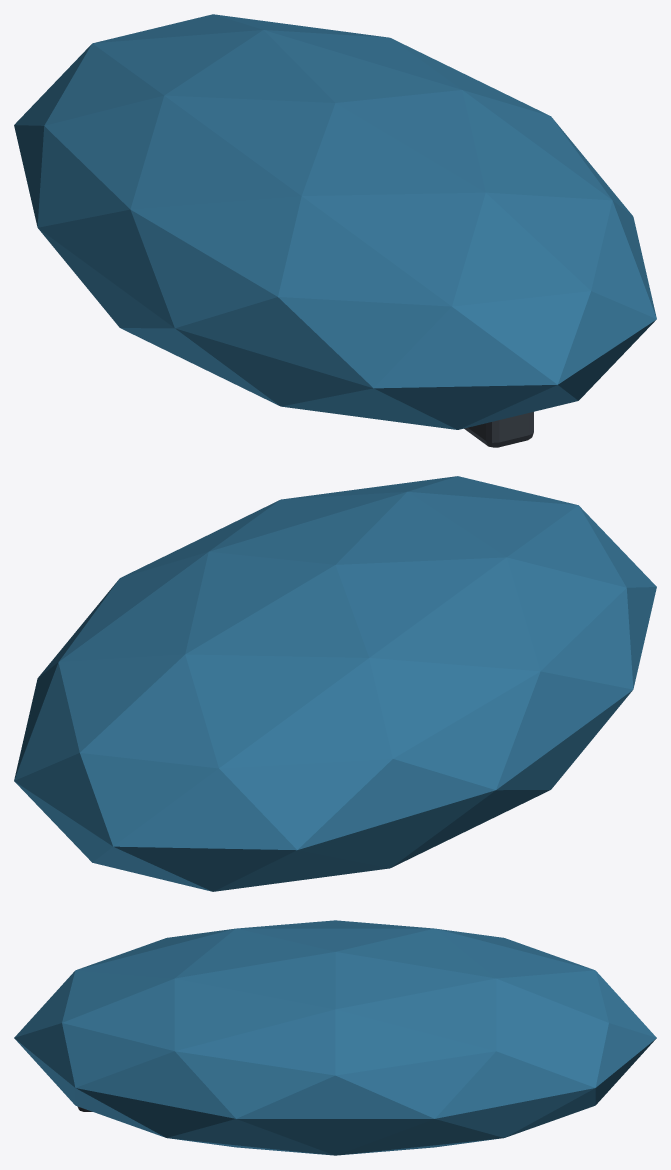
The model's file is ArmorFairing.fbx.
3 renders of one model, top to bottom at view 1: azimuth 30°, elevation 25°; view 2: azimuth 150°, elevation 25°; view 3: azimuth 270°, elevation 25°, orthographic. The views are drawn at different scales.
Visible parts, largest first — view 1: ArmorFairing_RENDER, ArmorFairingSpine_RENDER; view 2: ArmorFairing_RENDER; view 3: ArmorFairing_RENDER.
Boxes of the visible parts, <box> form: ArmorFairing_RENDER: <box>14,14,656,429</box>; ArmorFairingSpine_RENDER: <box>464,412,533,447</box>; ArmorFairing_RENDER: <box>14,476,656,891</box>; ArmorFairing_RENDER: <box>14,920,656,1155</box>.
Bounding box in the file's own units: 1.37 × 0.68 × 2.3.
